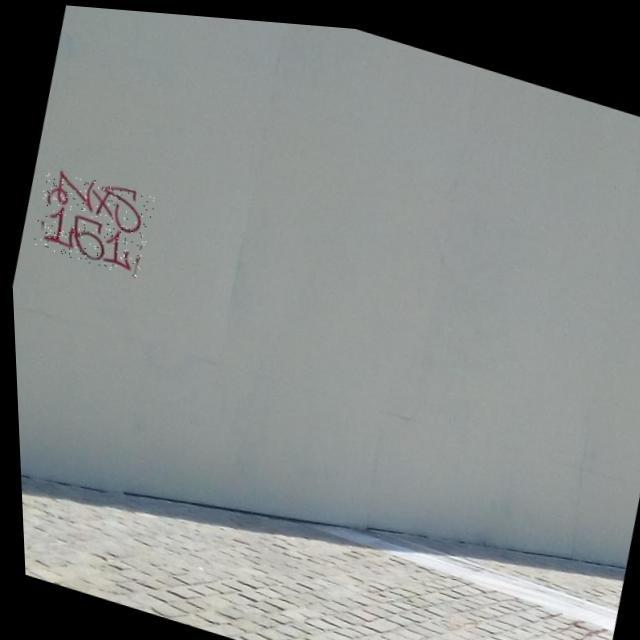-: (27, 162, 156, 278)
